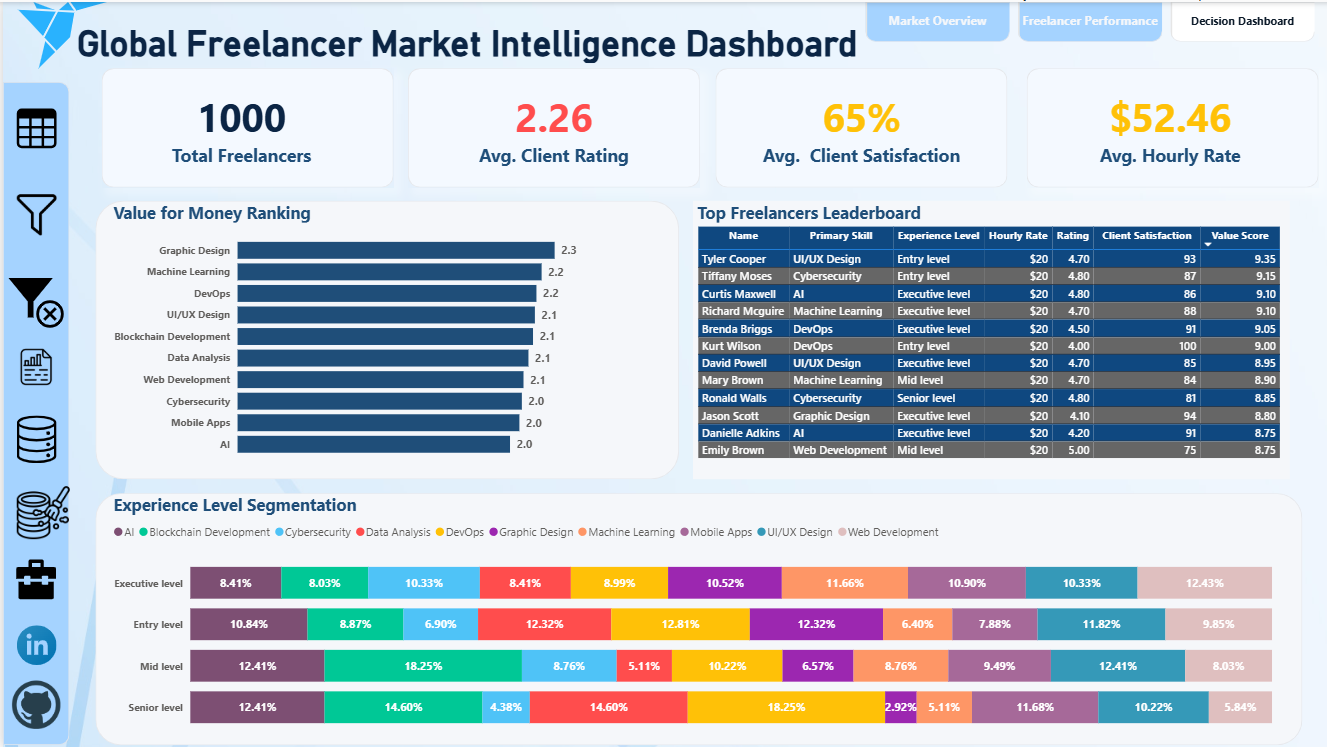

Layout of this report page (visuals, bound fields, positions):
{"tool":"powerbi","page":{"name":"Decision Dashboard","canvas":[1600,900],"ordinal":2},"visuals":[{"type":"textbox","title":"Global Freelancer Market Intelligence Dashboard","box":[85.2,25.3,976,48],"z":0,"group":"g1"},{"type":"shape","box":[119.3,80,352,144],"z":0},{"type":"group","id":"g1","title":"Group 5","box":[85.2,25.3,976,48],"z":1000},{"type":"image","box":[0,0,144,80],"z":2000},{"type":"shape","box":[112,240,704,336],"z":3000},{"type":"shape","box":[488.8,80,352,144],"z":4000},{"type":"shape","box":[860,80,352,144],"z":5000},{"type":"shape","box":[1234.6,80,352,144],"z":6000},{"type":"shape","box":[112,592,1456,304],"z":7000},{"type":"card","fields":{"Values":["global_freelancers.Total Freelancers"]},"box":[160,80,256,144],"z":8000},{"type":"barChart","title":"Value for Money Ranking","fields":{"Category":["global_freelancers.primary_skill"],"Y":["global_freelancers.value_score"]},"box":[128,240,656,320],"z":9000},{"type":"hundredPercentStackedBarChart","title":"Experience Level Segmentation","fields":{"Category":["global_freelancers.experience_level"],"Y":["global_freelancers.Total Freelancers"],"Series":["global_freelancers.primary_skill"]},"box":[128,592,1408,304],"z":10000},{"type":"tableEx","title":"Top Freelancers Leaderboard","fields":{"Values":["global_freelancers.name","global_freelancers.primary_skill","global_freelancers.experience_level","Sum(global_freelancers.hourly_rate_USD)","Sum(global_freelancers.rating)","Sum(global_freelancers.client_satisfaction)","global_freelancers.value_score"]},"box":[832,240,720,336],"z":12000},{"type":"card","fields":{"Values":["global_freelancers.Average Client Rating"]},"box":[536.8,80,256,144],"z":13000},{"type":"card","fields":{"Values":["global_freelancers.Average Satisfaction Score"]},"box":[908,80,256,144],"z":14000},{"type":"card","fields":{"Values":["global_freelancers.Average Hourly Rate"]},"box":[1280,80,256,144],"z":15000},{"type":"pageNavigator","box":[1040,0,544,48],"z":16000},{"type":"shape","box":[0,96,80,800],"z":17000},{"type":"image","box":[16,224,48,64],"z":18000},{"type":"image","box":[17,736,48,80],"z":19000},{"type":"image","box":[17,480,48,96],"z":20000},{"type":"image","box":[0,816,80,64],"z":21000},{"type":"image","box":[17,96,48,112],"z":22000},{"type":"image","box":[16,576,64,80],"z":23000},{"type":"image","box":[0,672,80,48],"z":24000},{"type":"image","box":[0,320,80,80],"z":25000},{"type":"image","box":[0,416,80,48],"z":26000}]}

Visuals, with their boxes on the page's 1600x900 design canvas (x1, y1, x2, y2). These are canvas units, not pixel positions in the 1327x747 screenshot, which may show the page scaled, cropped or inside an application window:
"Global Freelancer Market Intelligence Dashboard" textbox: 85 25 1061 73
shape: 119 80 471 224
"Group 5" group: 85 25 1061 73
image: 0 0 144 80
shape: 112 240 816 576
shape: 489 80 841 224
shape: 860 80 1212 224
shape: 1235 80 1587 224
shape: 112 592 1568 896
card - global_freelancers.Total Freelancers: 160 80 416 224
"Value for Money Ranking" barChart: 128 240 784 560
"Experience Level Segmentation" hundredPercentStackedBarChart: 128 592 1536 896
"Top Freelancers Leaderboard" tableEx: 832 240 1552 576
card - global_freelancers.Average Client Rating: 537 80 793 224
card - global_freelancers.Average Satisfaction Score: 908 80 1164 224
card - global_freelancers.Average Hourly Rate: 1280 80 1536 224
pageNavigator: 1040 0 1584 48
shape: 0 96 80 896
image: 16 224 64 288
image: 17 736 65 816
image: 17 480 65 576
image: 0 816 80 880
image: 17 96 65 208
image: 16 576 80 656
image: 0 672 80 720
image: 0 320 80 400
image: 0 416 80 464
